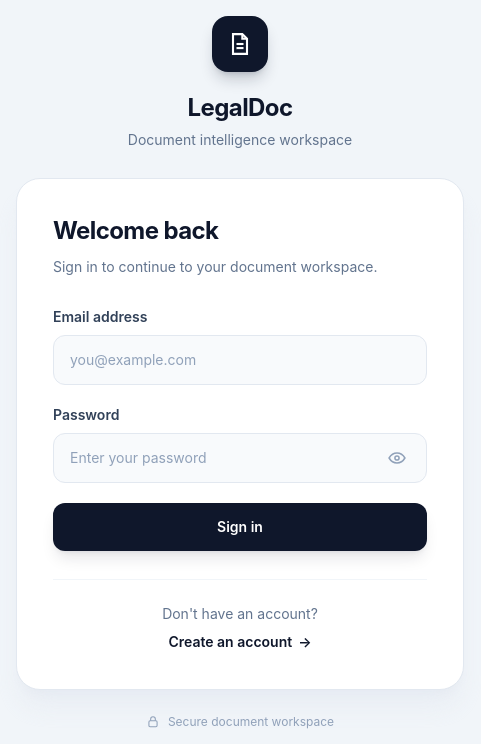
LoginForm › shows an error when login fails
Type "wrong@gmail.com" into the field labelled "Email address" at coordinates (240, 360), box [53,335,427,385]
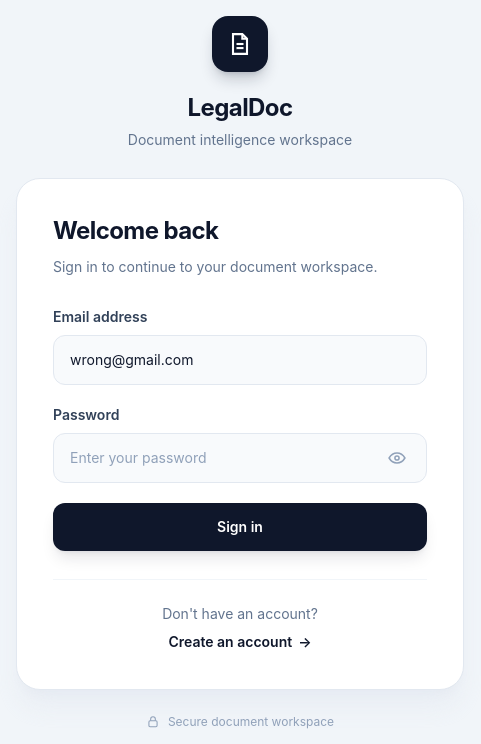
Type "wrongpassword" into the password field labelled "Password" at coordinates (240, 458), box [53,433,427,483]
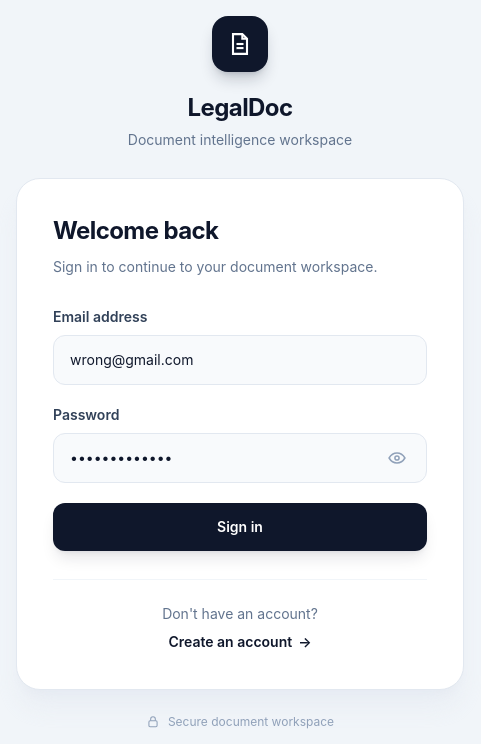
Click the button "Sign in" at coordinates (240, 527), box [53,503,427,551]
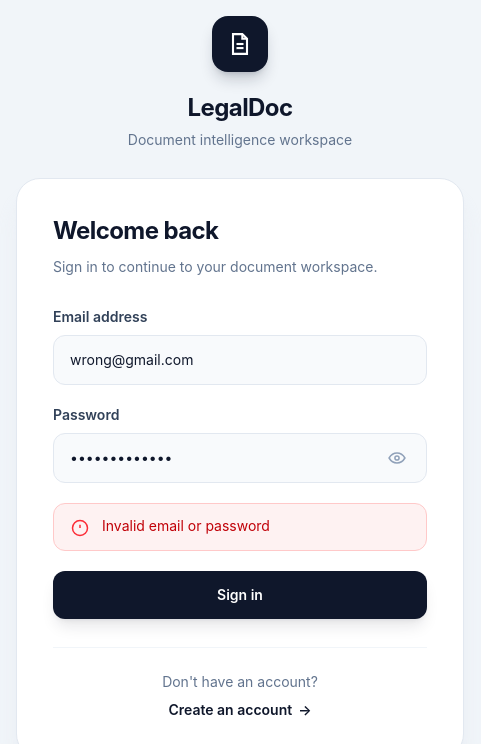
Result: the message reads "Invalid email or password" at [102,517,270,534]
